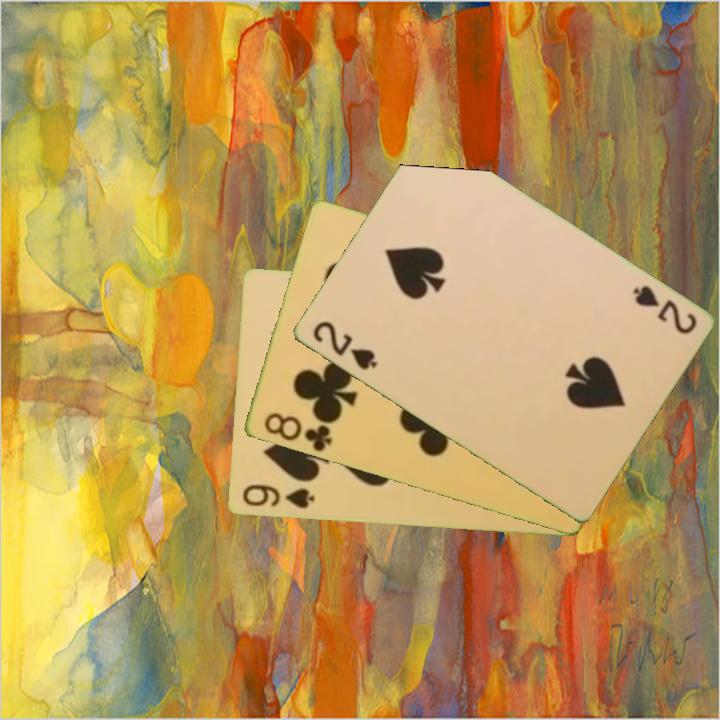2s: (308, 317, 380, 374), (628, 282, 700, 338)
8c: (260, 409, 335, 455)
9s: (238, 481, 317, 512)
